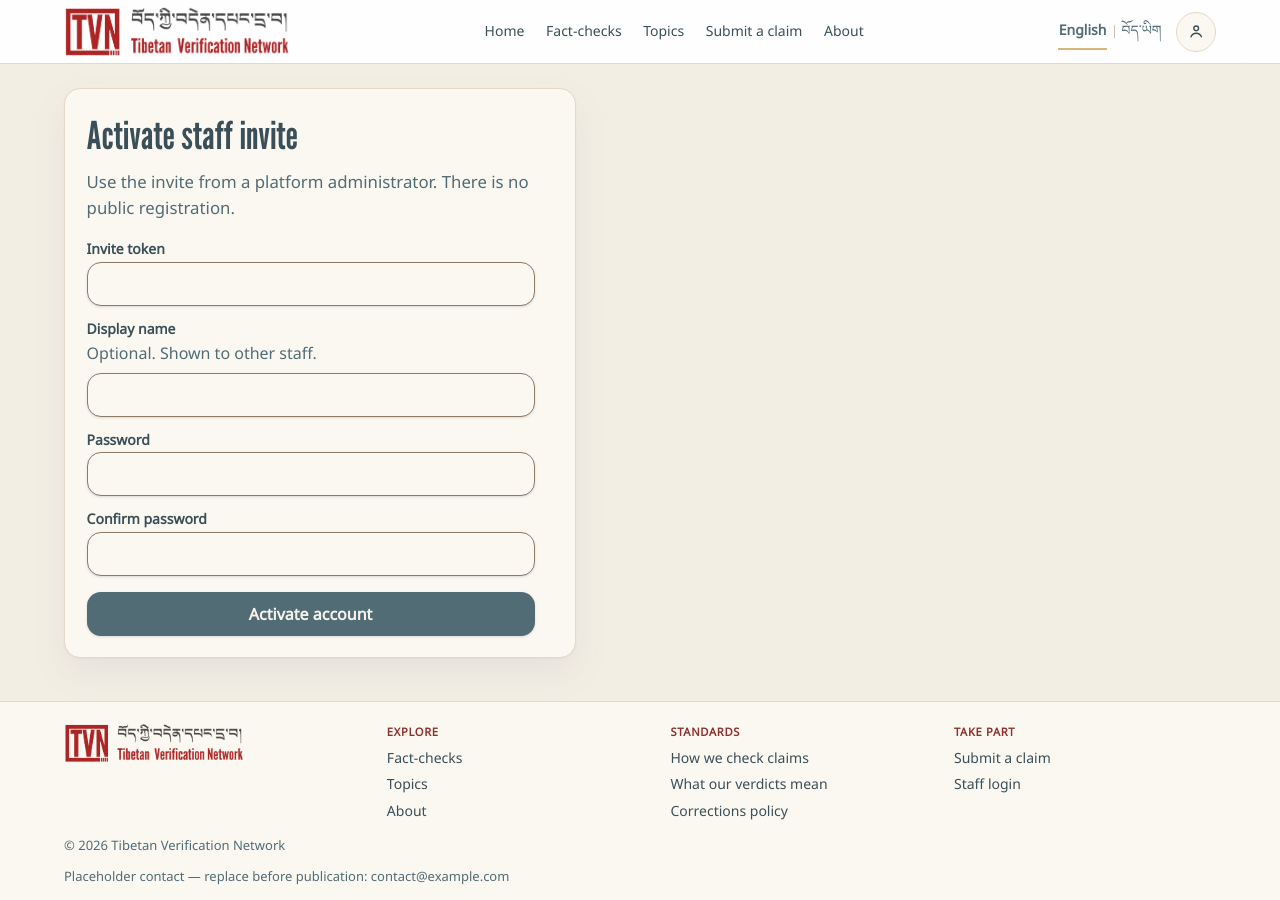
Test: invite activation › confirms activation and links to staff login
Type "invite-secret-token-value" into the field labelled "Invite token" at {"x": 311, "y": 284}, box [87, 262, 535, 306]
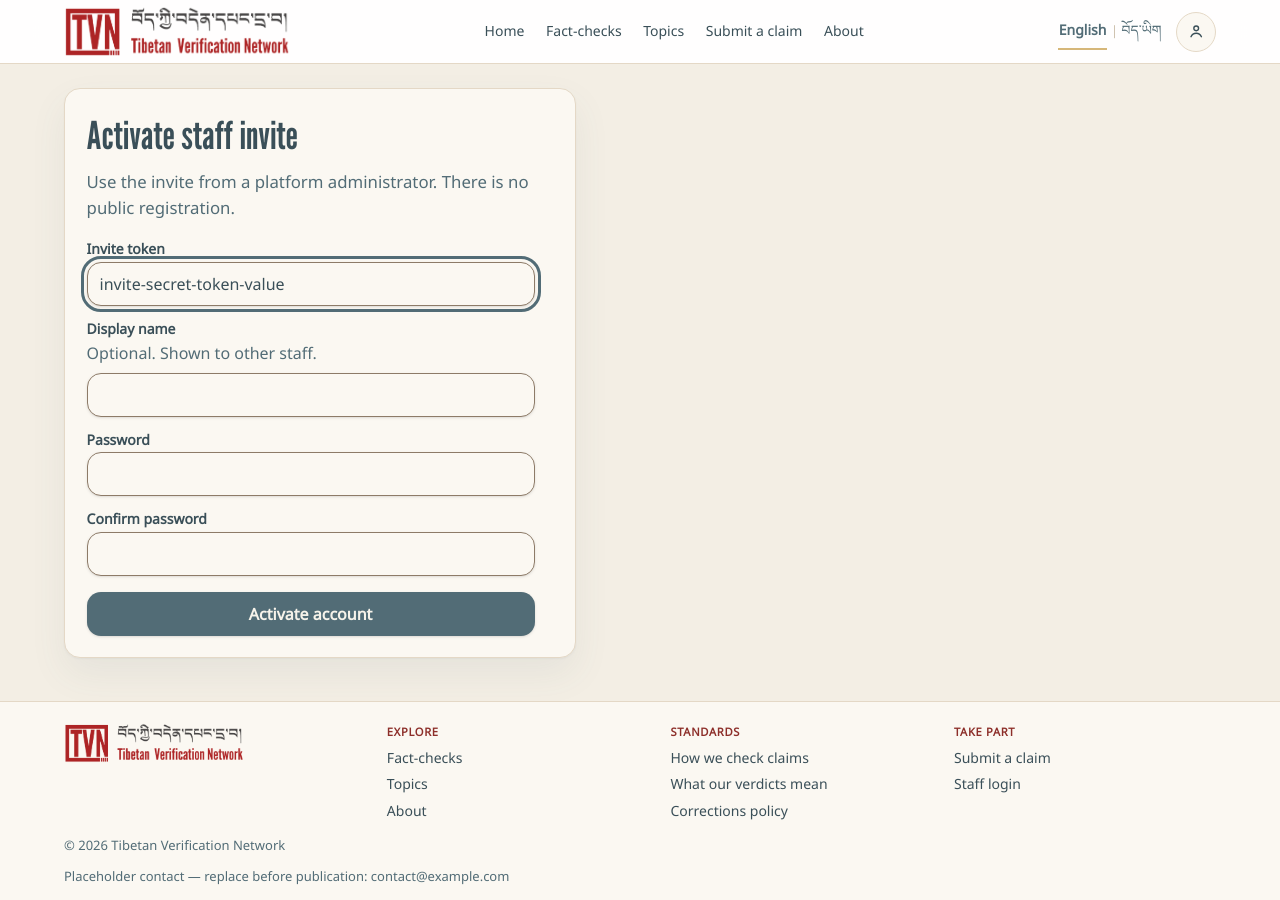
Type "Tenzin" into the field labelled "Display name" at {"x": 311, "y": 395}, box [87, 373, 535, 417]
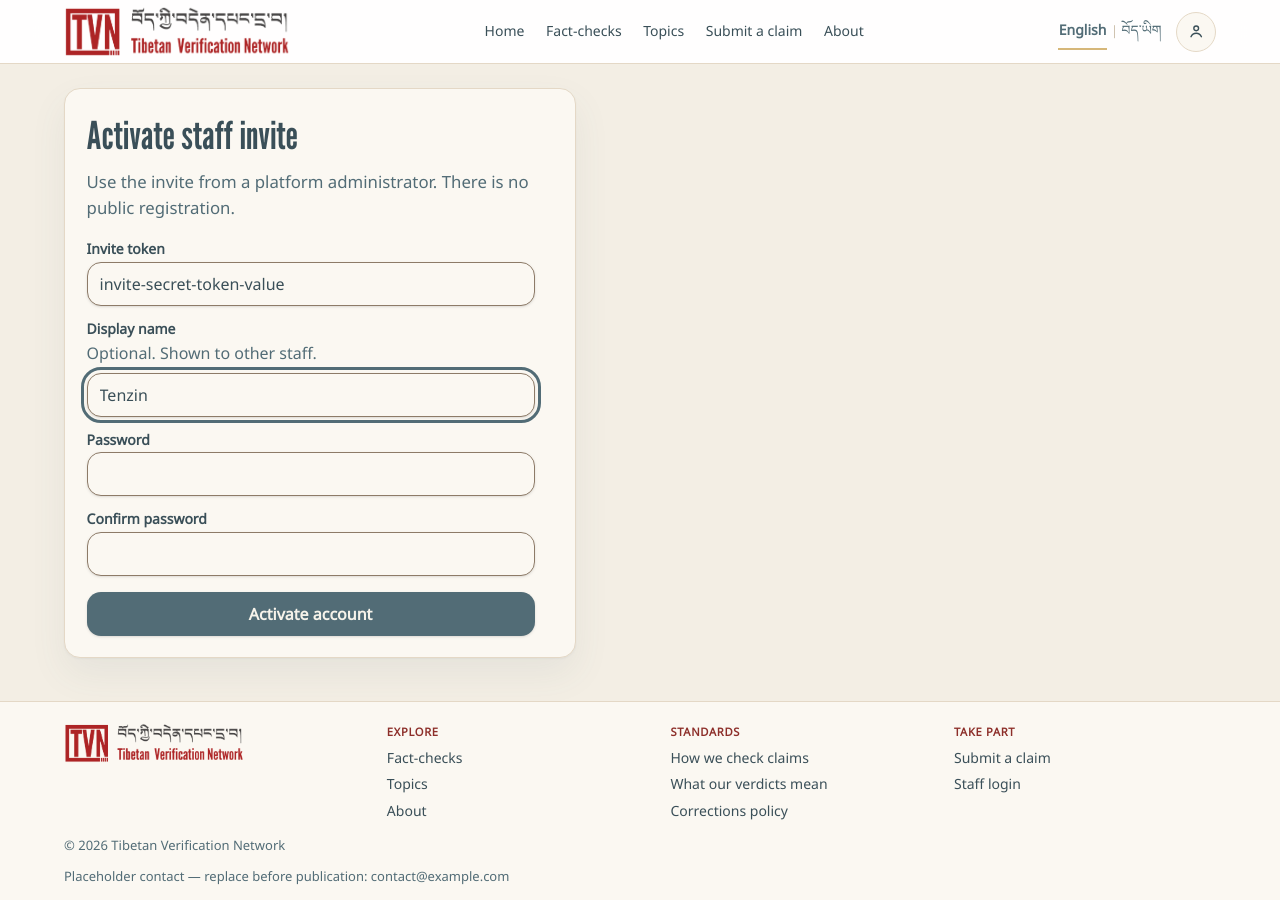
Type "correct-horse-battery" into the password field labelled "Password" at {"x": 311, "y": 474}, box [87, 452, 535, 496]
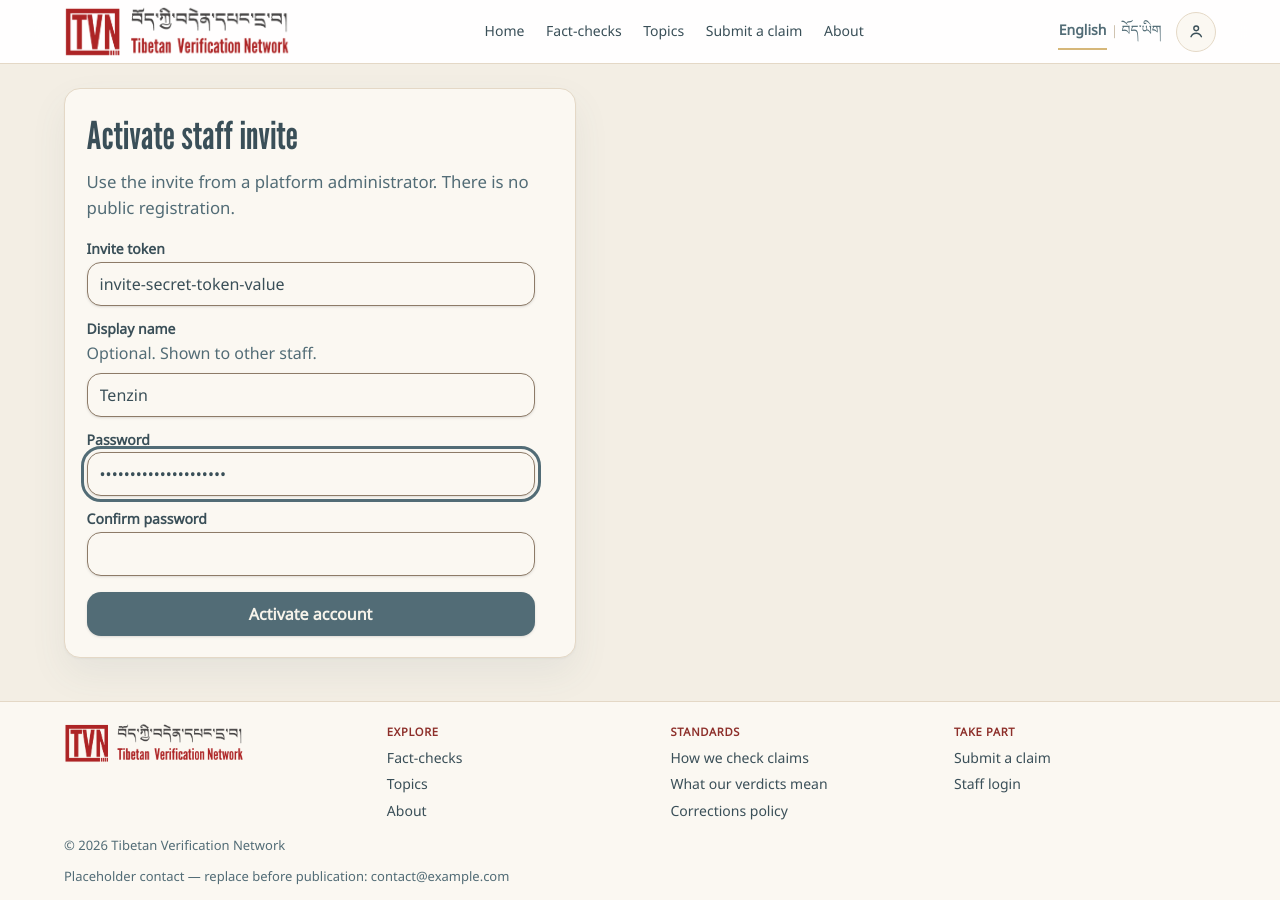
Type "correct-horse-battery" into the password field labelled "Confirm password" at {"x": 311, "y": 554}, box [87, 532, 535, 576]
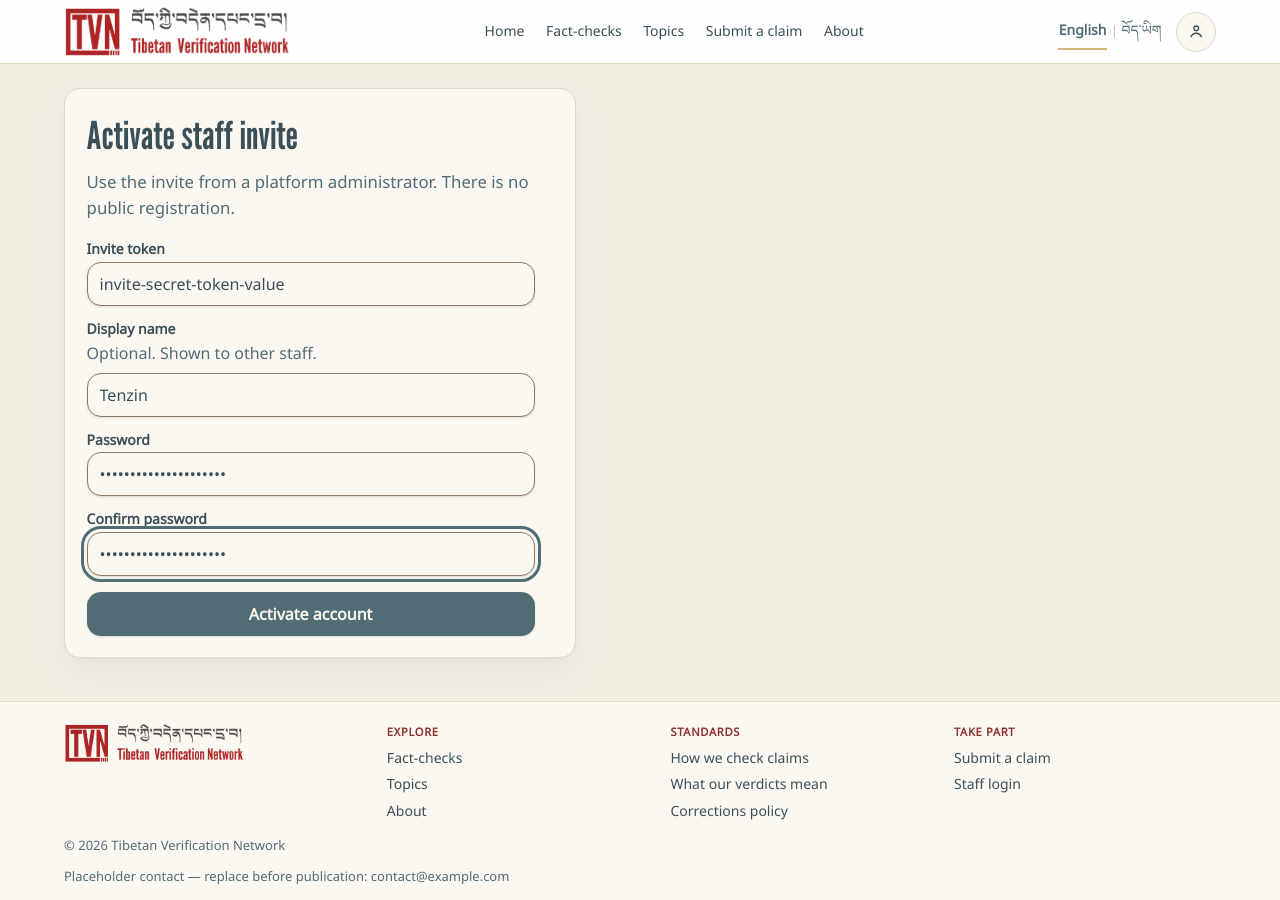
Click the button "Activate account" at {"x": 311, "y": 614}, box [87, 592, 535, 636]
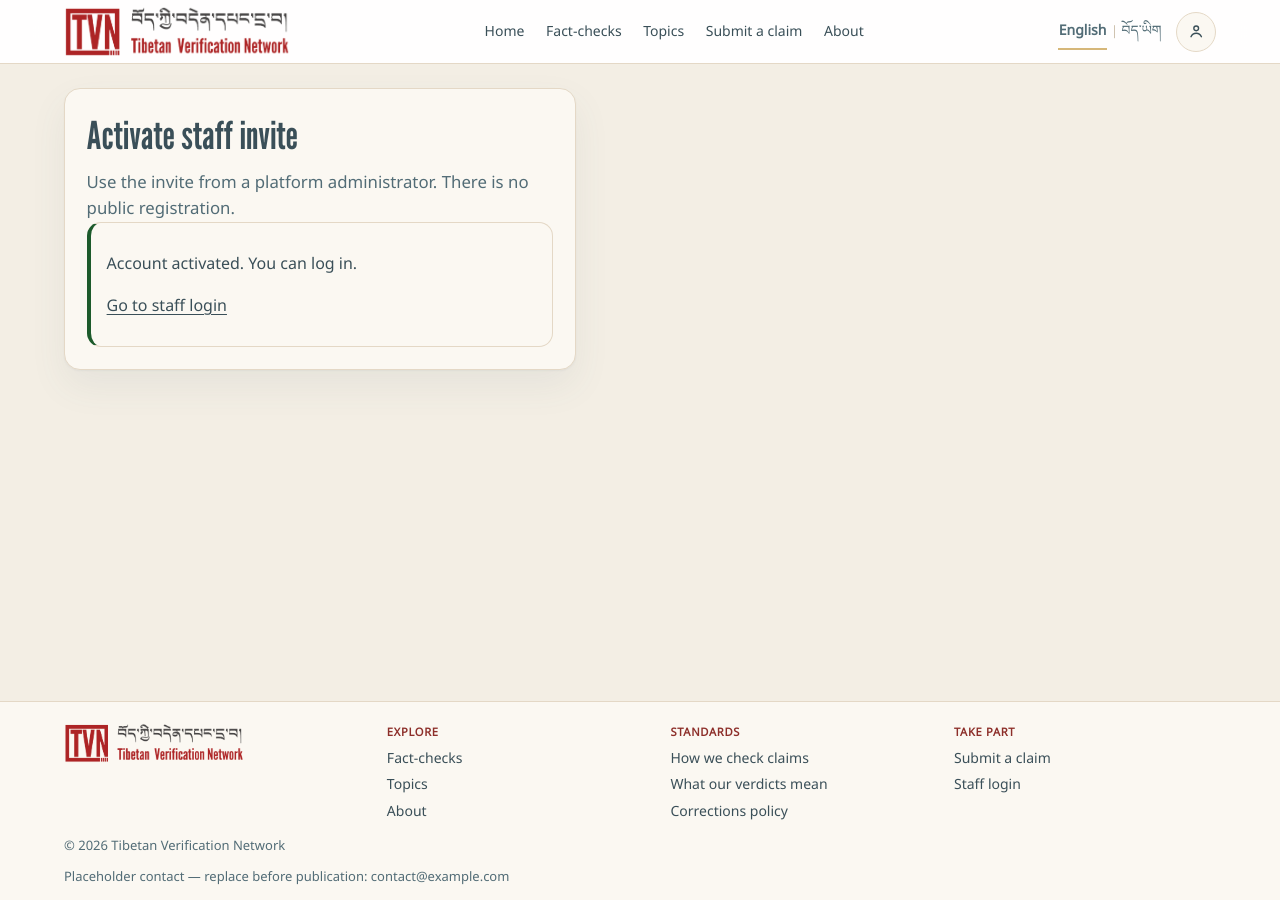
Check: the message shows "Account activated. You can log in.", box [107, 252, 357, 274]
Check: the label labelled "Invite token" is gone
